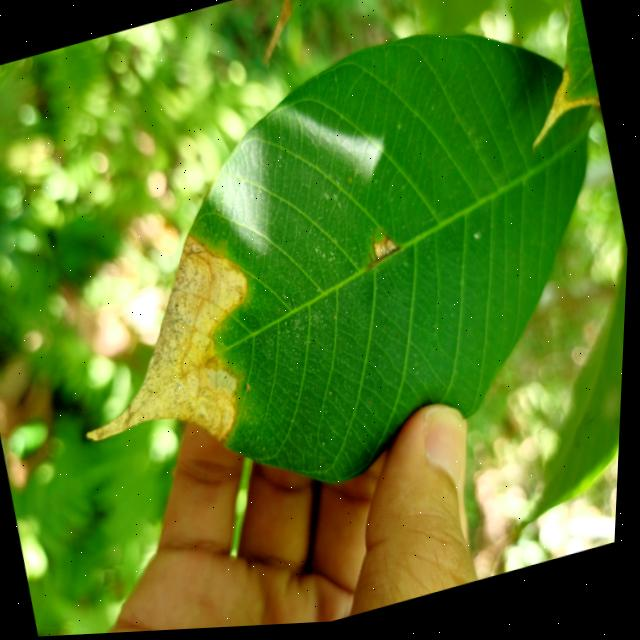Corynespora: (359, 231, 407, 276)
Leaf-Blight: (51, 223, 285, 483)
